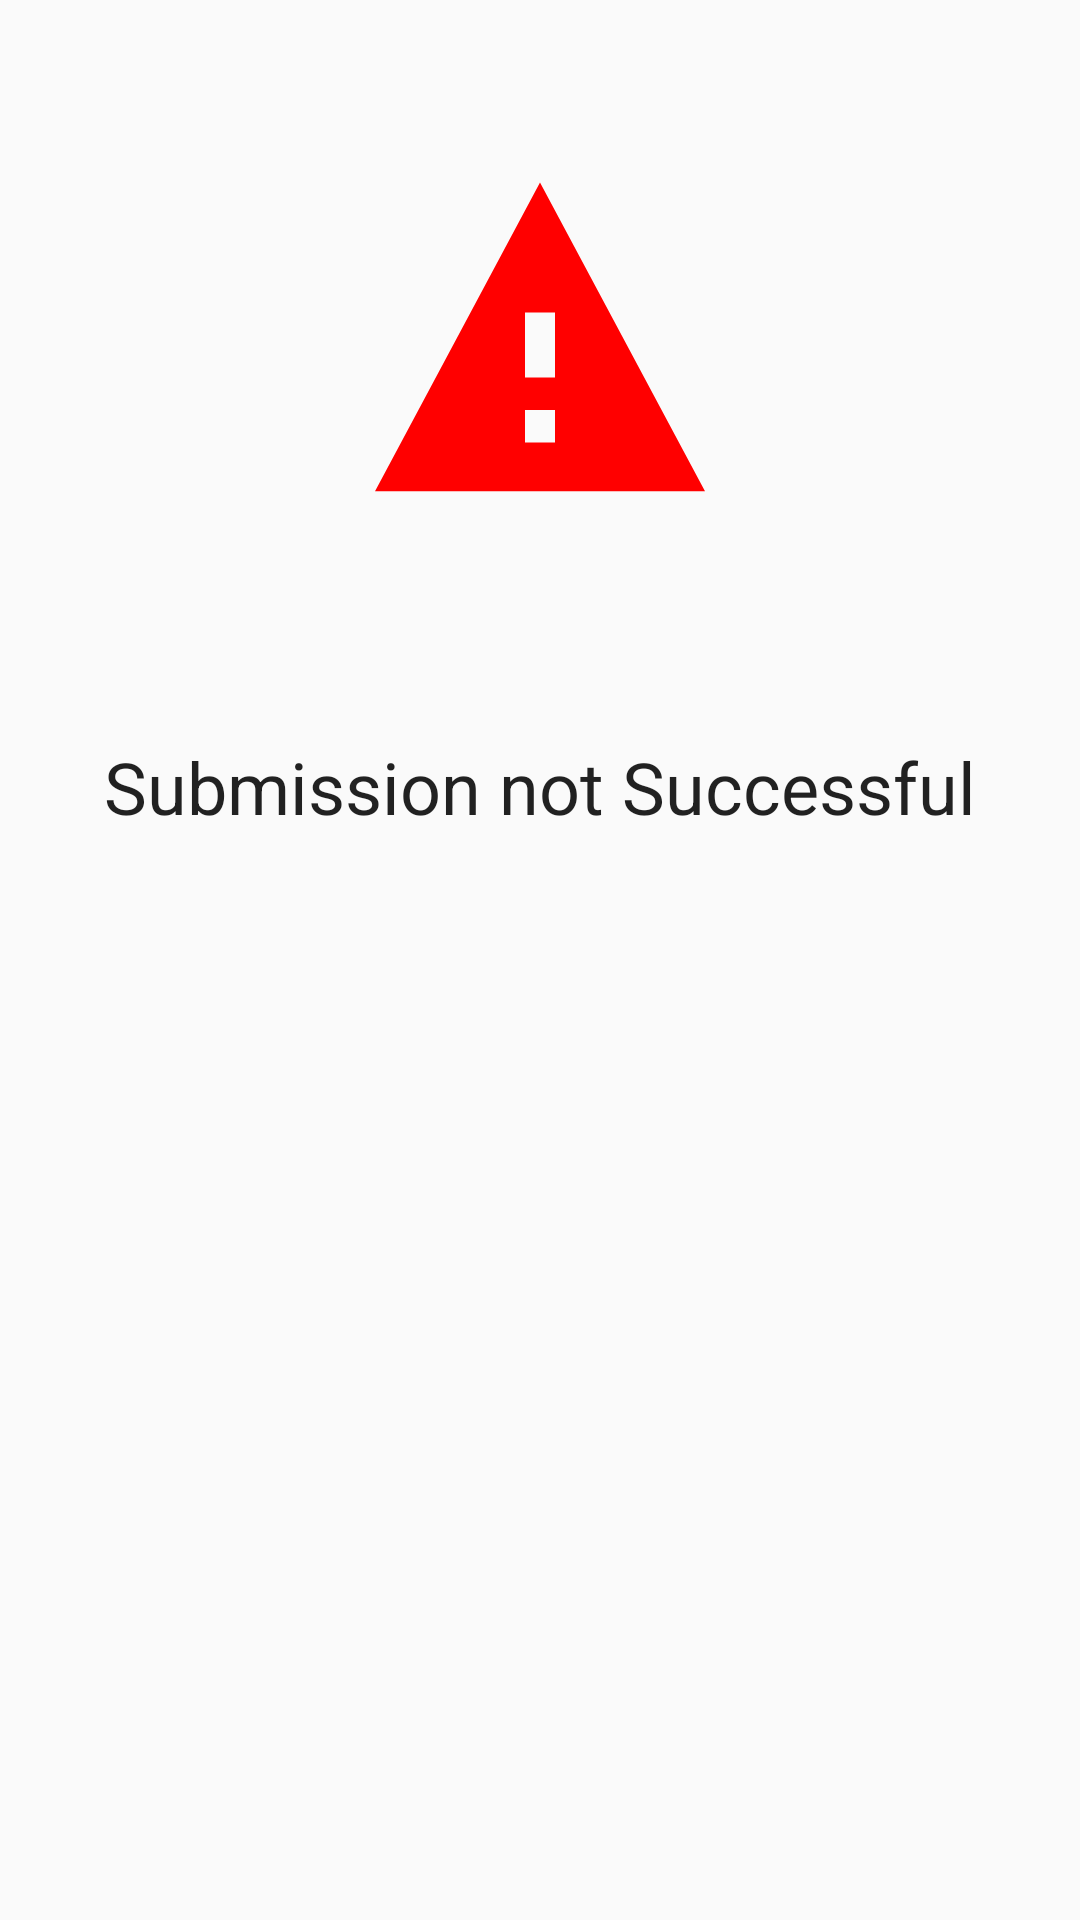

Icons on this 1080×1920 Android screen, each with its box as (x1, y1, x2, y2):
alert: (375, 183, 705, 492)
